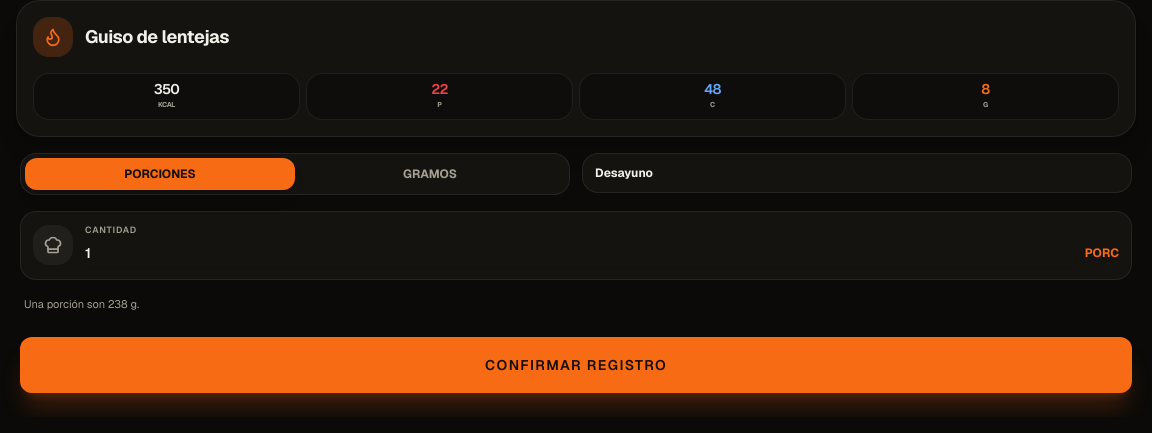
RecipeAmountStep › keeps the same real amount of food when the unit switches back to servings
The width and height of the screenshot is (1152, 433).
Click the button "Gramos": x=430, y=174 x1=295 y1=158 x2=565 y2=190
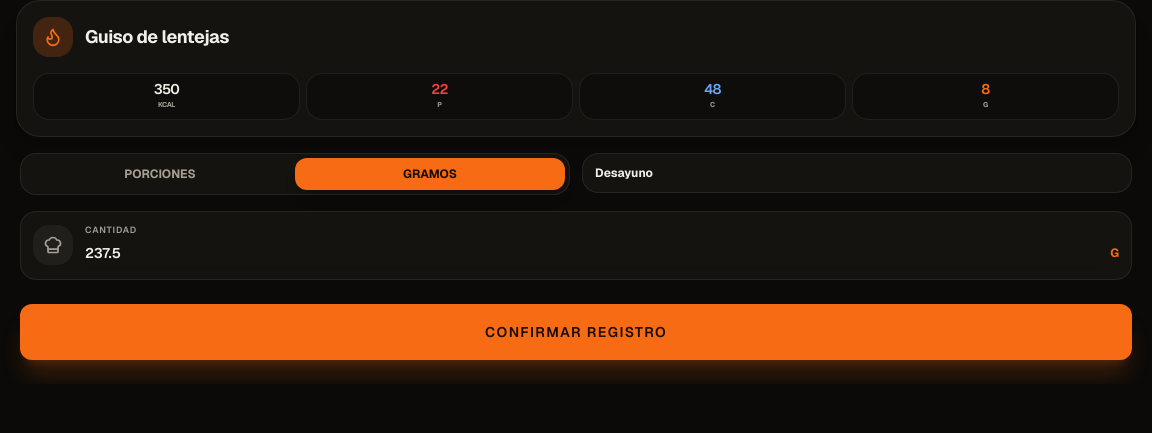
Replace the text in the number field named "Cantidad" with "475": x=594, y=253 x1=85 y1=239 x2=1102 y2=267
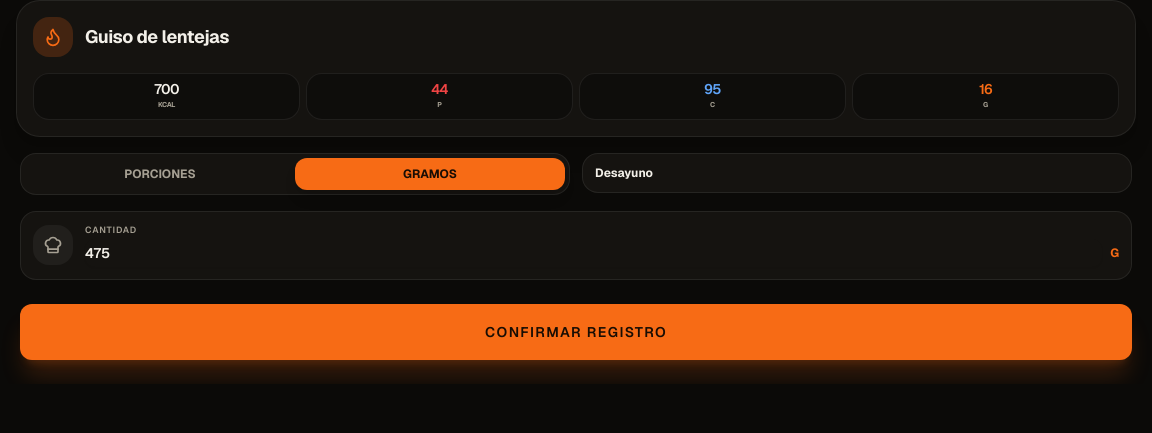
Click the button "Porciones": x=160, y=174 x1=25 y1=158 x2=295 y2=190
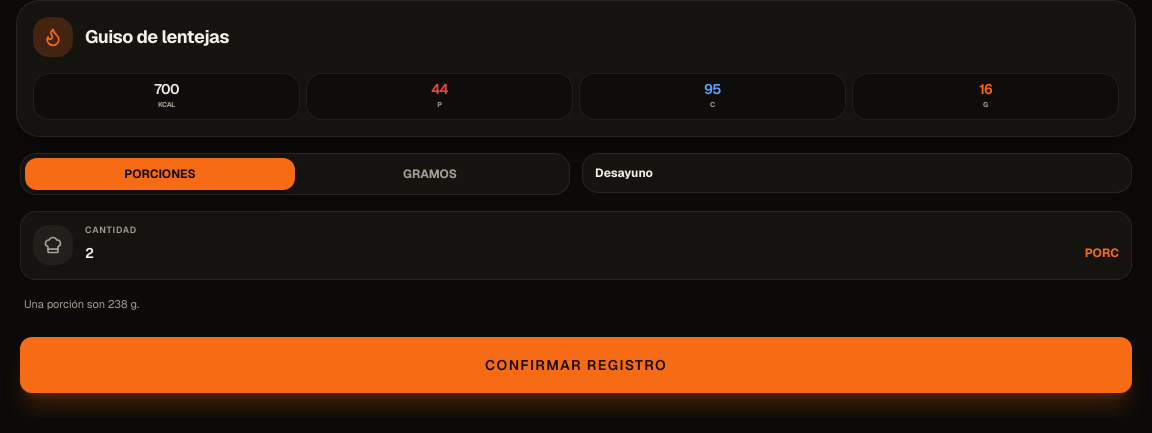
expect the text "700" is shown: met, box x1=154 y1=82 x2=179 y2=96
expect the number field named "Cantidad" holds "2": met, box x1=85 y1=239 x2=1077 y2=267
